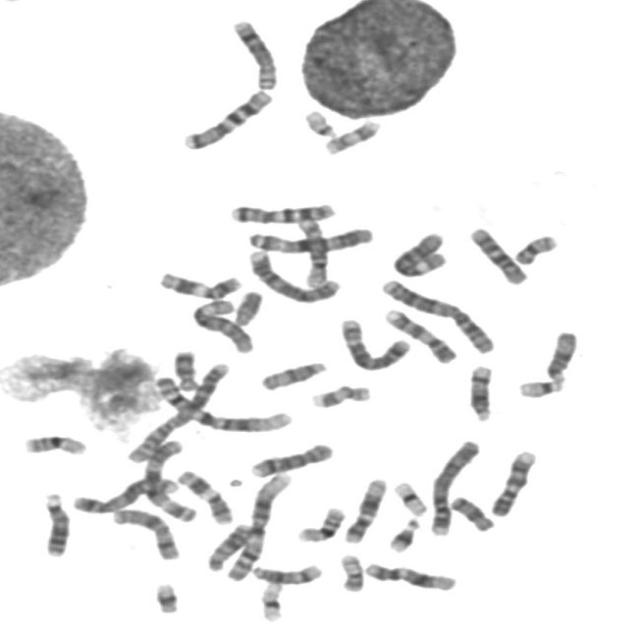A1: (150, 372, 296, 434), (221, 468, 294, 582)
A2: (121, 356, 232, 464), (375, 274, 498, 354)
A3: (137, 434, 200, 524), (243, 222, 376, 255)
B4: (422, 434, 482, 537), (242, 246, 342, 304)
B5: (66, 472, 182, 515), (336, 314, 412, 372)
C10: (463, 222, 530, 286), (288, 209, 334, 290)
C11: (172, 465, 235, 526), (153, 267, 245, 300)
C12: (338, 474, 388, 544), (359, 558, 458, 592)
C6: (187, 295, 255, 355), (386, 227, 449, 278)
C7: (177, 86, 275, 152), (224, 198, 338, 225)
C8: (227, 15, 280, 91), (244, 438, 336, 479)
C9: (379, 304, 458, 365), (486, 446, 539, 518)
D13: (201, 519, 255, 573), (36, 488, 72, 558)
D14: (245, 559, 325, 586), (462, 361, 496, 423)
D15: (255, 356, 329, 392), (540, 327, 580, 385)
E16: (292, 502, 348, 544), (18, 430, 89, 457)
E17: (319, 116, 382, 156), (305, 381, 373, 410)
E18: (444, 492, 496, 532), (168, 346, 200, 392)
F19: (388, 478, 430, 518), (254, 578, 287, 624)
F20: (510, 230, 560, 266), (334, 549, 366, 593)
G21: (383, 514, 422, 554), (148, 579, 182, 615)
G22: (298, 105, 339, 139), (516, 380, 564, 400)
X: (107, 505, 183, 561)
Y: (228, 286, 265, 327)
